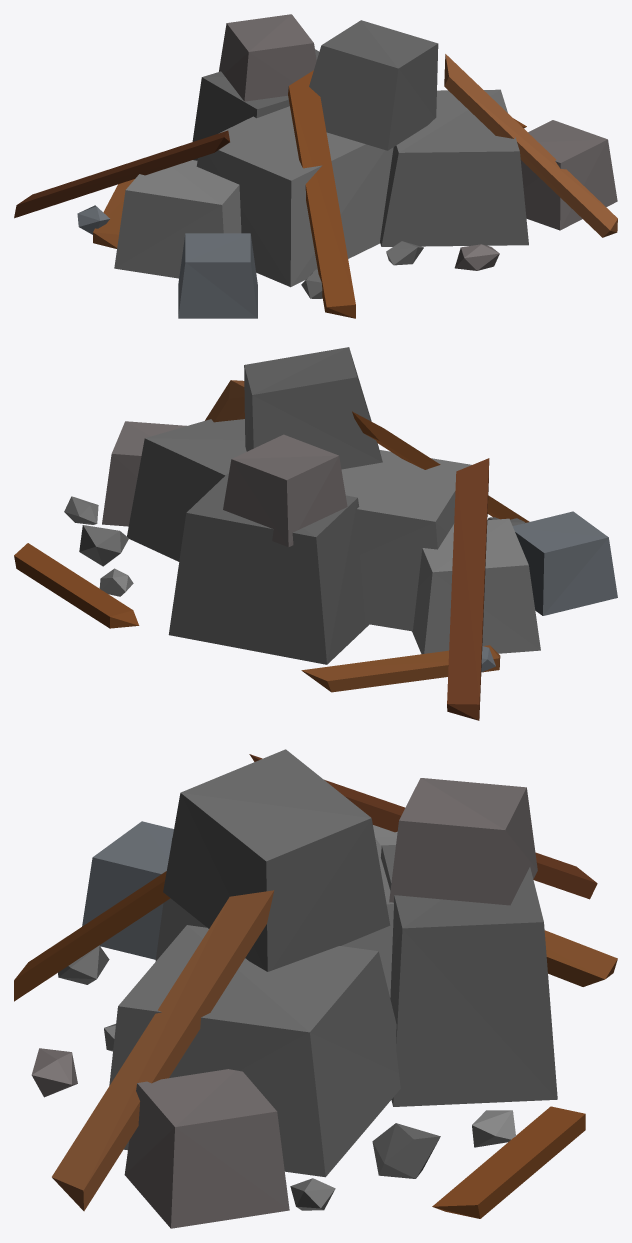
Rendered from debris.glb.
3 renders of one model, top to bottom at view 1: azimuth 30°, elevation 25°; view 2: azimuth 150°, elevation 25°; view 3: azimuth 270°, elevation 25°, orthographic. The views are drawn at different scales.
Visible parts, largest first — view 1: debris; view 2: debris; view 3: debris.
Part boxes in pixels (left/top/right/bottom): debris: left=14, top=14, right=617, bottom=318; debris: left=14, top=347, right=617, bottom=720; debris: left=14, top=749, right=617, bottom=1228.
Size of the model in its own units: 2.71 by 1.08 by 2.01.
